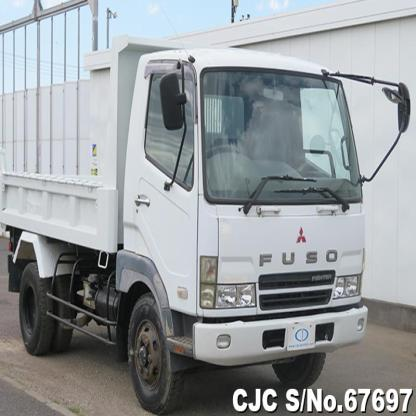truck: (1, 38, 413, 415)
